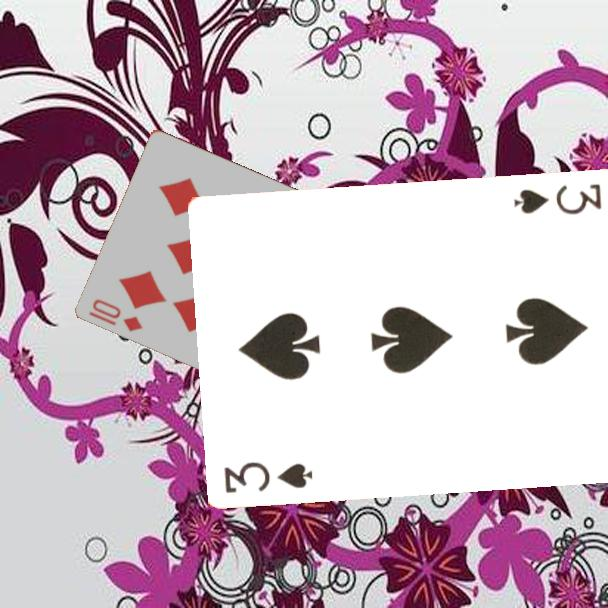d10: (85, 295, 146, 334)
s03: (510, 179, 605, 217), (221, 459, 316, 496)
